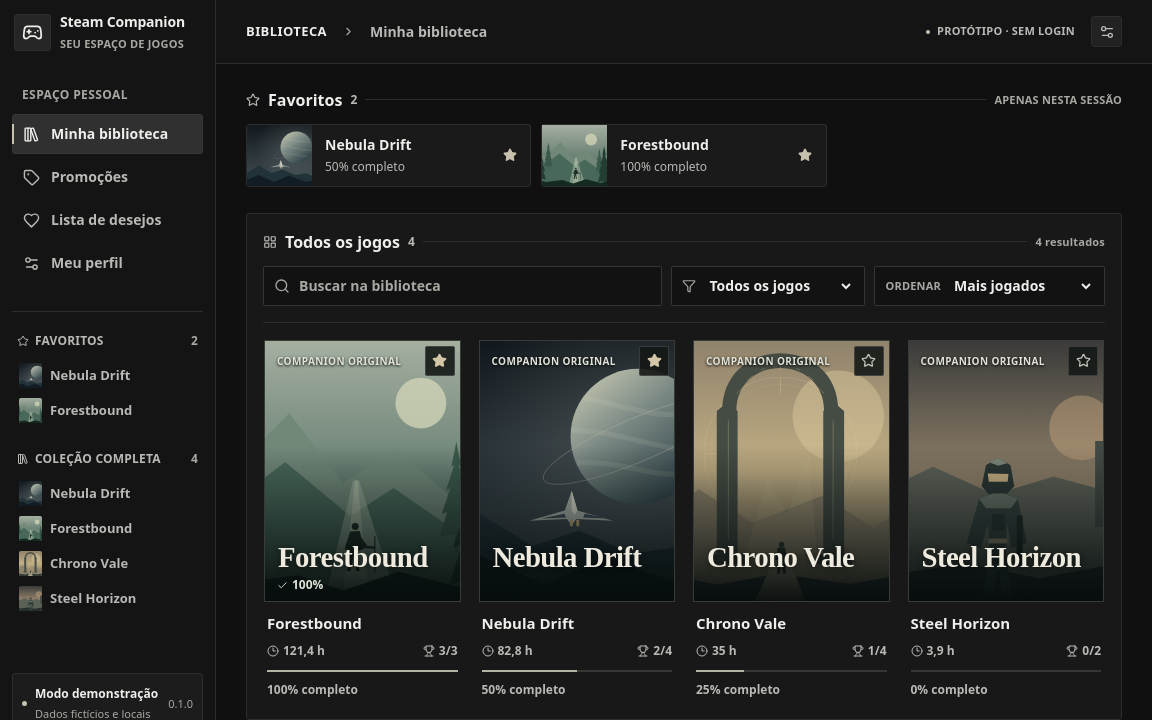
Scenario: biblioteca visual — organização e acessibilidade › mantém favoritos independentes dos desejos e preserva a coleção completa
(page scrolled)
Expected: the field named "Buscar jogo" is shown, [299,267,652,304]
Expected: the number of buttons named "Abrir favorito:" is 2, [247,125,489,186]; [542,125,785,186]
What coordinates should you click on to do the following:
click the button named "Adicionar Steel Horizon aos favoritos"
I would click on:
 (1083, 361)
Its box is [1068,346,1098,376].
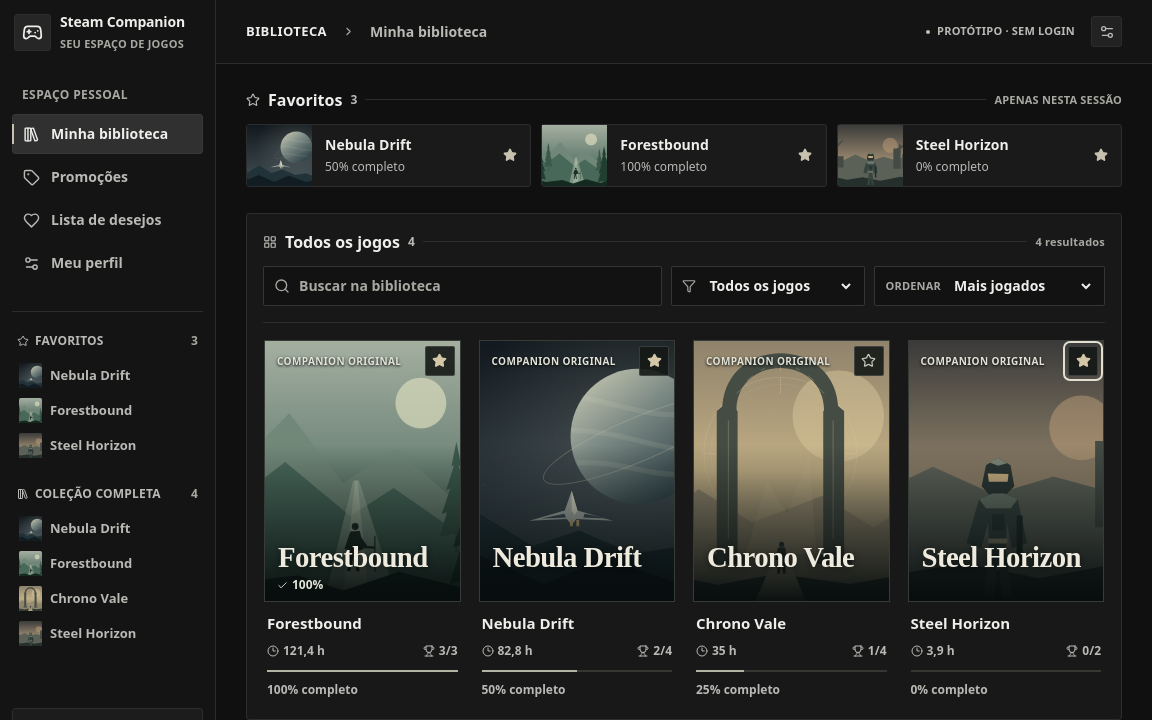
Expected: the number of buttons "% completo" is 4, [263,339,462,703]; [478,339,676,703]; [692,339,890,703]; [906,339,1105,703]
Now the number of buttons named "Abrir favorito:" is 3, box [247,125,489,186]; [542,125,785,186]; [838,125,1080,186]
What coordinates should you click on to do the following:
click the button "Lista de desejos"
I would click on:
 (108, 220)
Its box is [12,200,203,240].
(page scrolled)
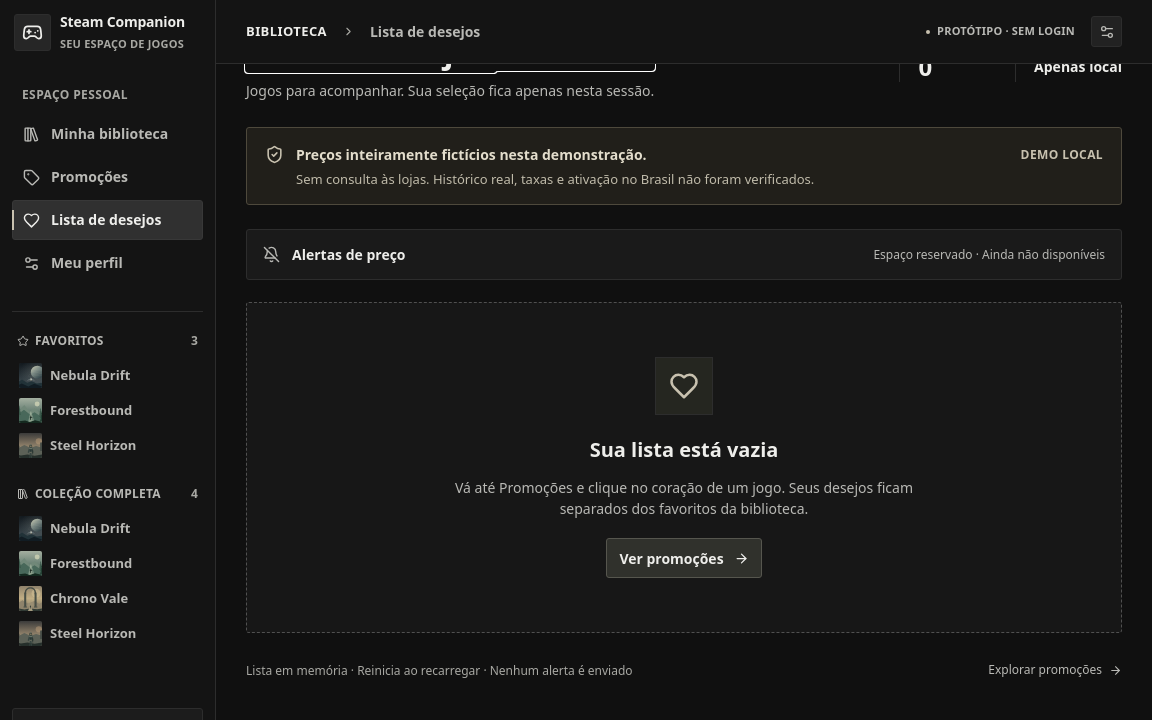
Now the heading "Sua lista está vazia" is shown, box [590,435,778,465]
What coordinates should you click on to do the following:
click the button "Minha biblioteca"
I would click on:
 (108, 134)
Its box is [12,114,203,154].
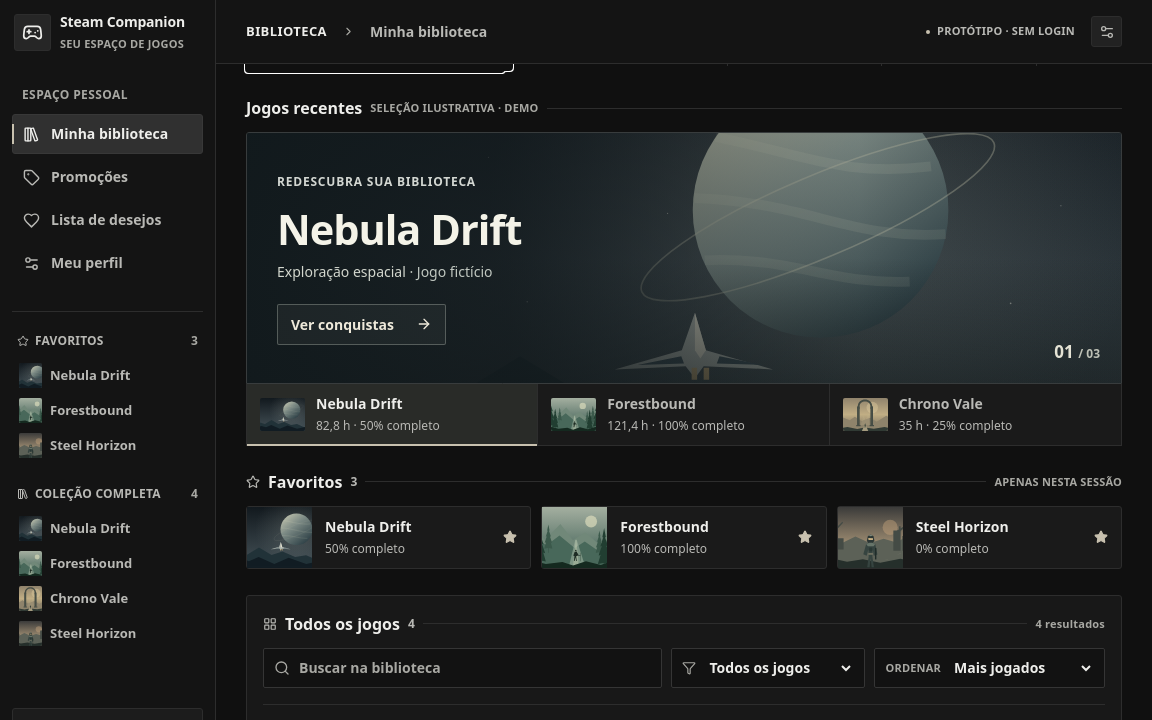
Now the button with aria-label "Abrir favorito: Steel Horizon" is shown, box [838,507,1080,568]
